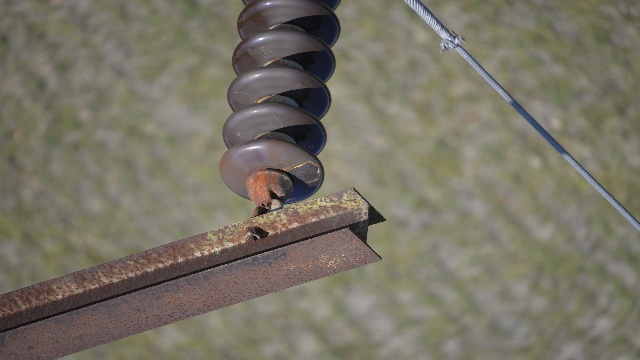insulator_unspecified: (218, 0, 341, 202)
pollution_flashover_local: (289, 158, 322, 193), (225, 86, 257, 113), (246, 47, 269, 69), (266, 112, 283, 129)
